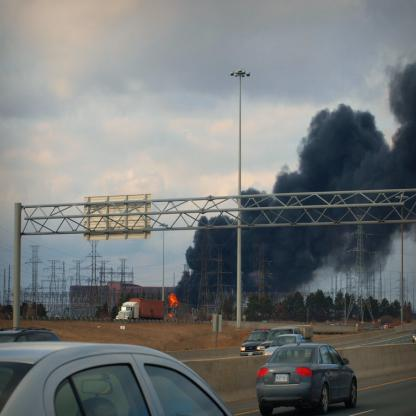Car: (0, 336, 233, 416), (248, 342, 358, 414), (0, 327, 62, 373), (260, 326, 300, 351), (262, 332, 304, 354), (239, 328, 270, 356), (411, 330, 416, 343)
